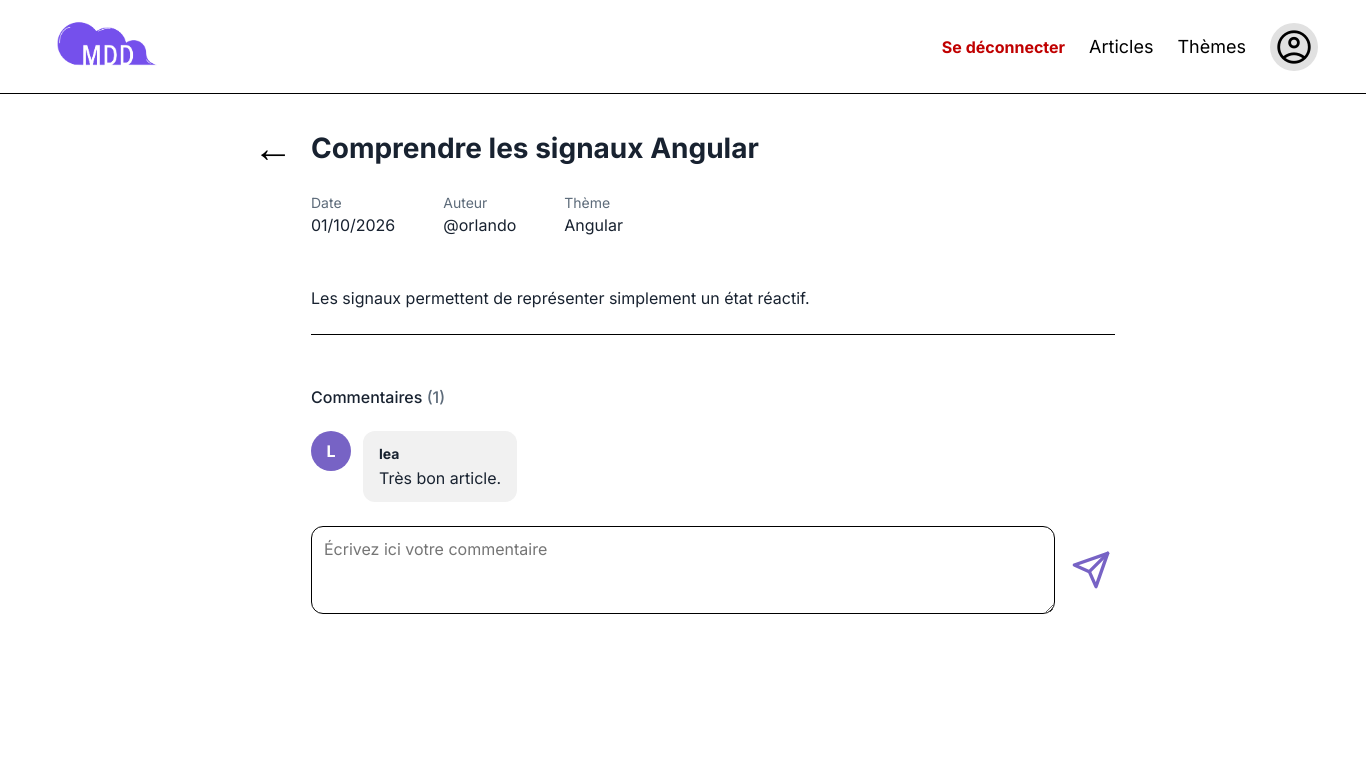
Scenario: Détail d’un article › publie un commentaire et l’ajoute à la liste
Step 1. Type "Merci pour ces explications." into the text box with id "comment-content" → (683, 570), box [311,526,1055,614]
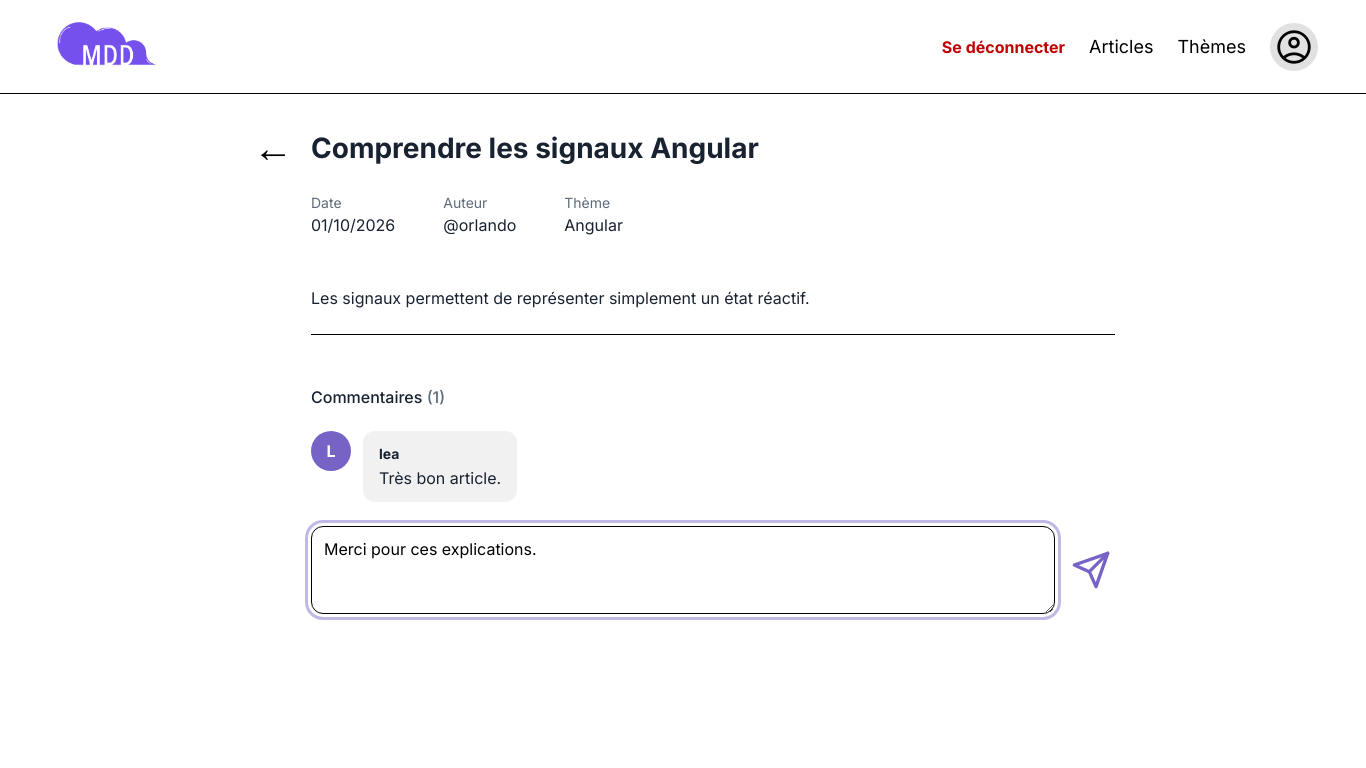
Step 2. Click the button named "Publier le commentaire" → click(1091, 570), box [1067,546,1115,594]
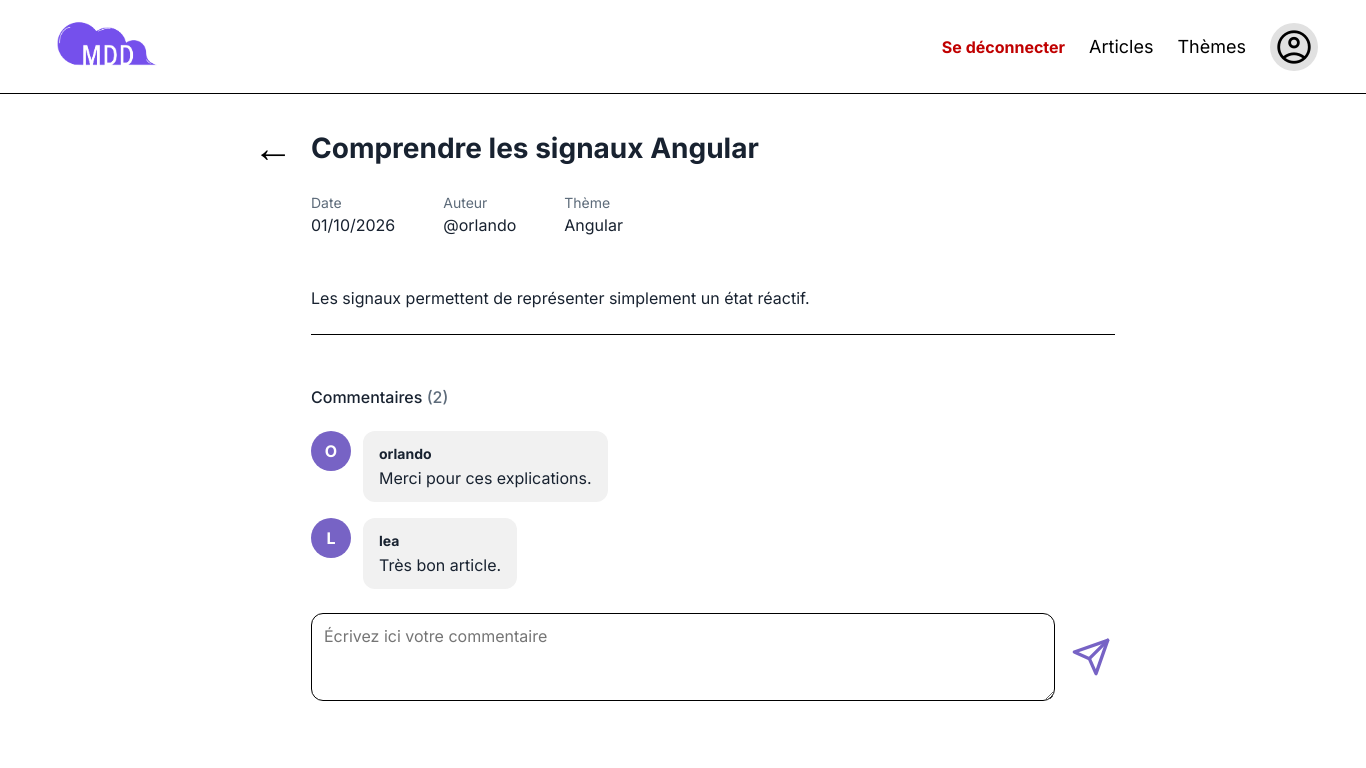
Expected: the text "Merci pour ces explications." is shown, [379,468,592,488]
Expected: the heading "Commentaires (2)" is shown, [311,387,448,407]
